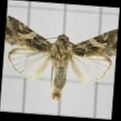Spodoptera litura: (3, 18, 115, 101)
